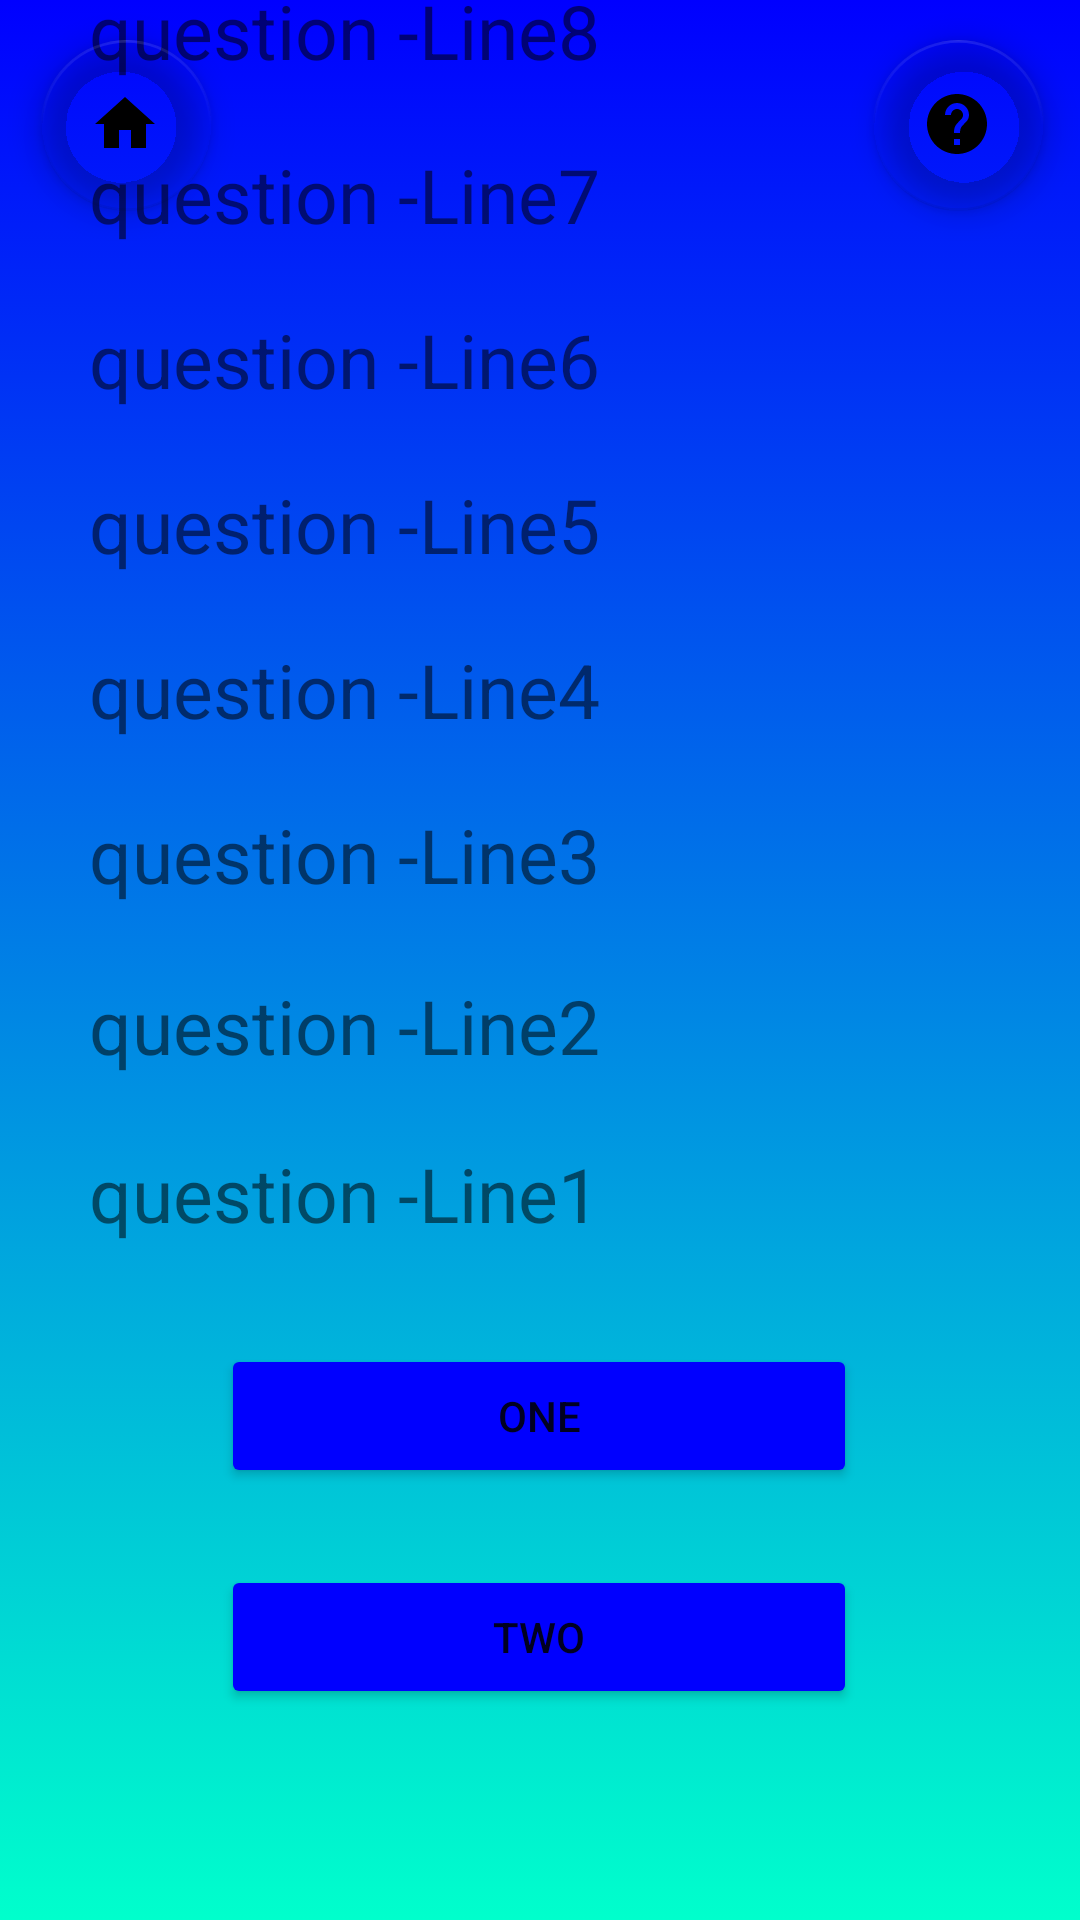

Screen size 1080x1920. Icon name, then its center in pixels as (x,y):
help: (959,125)
home: (126,125)
